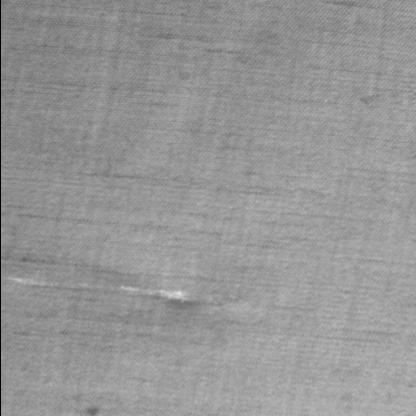thread error: (0, 273, 235, 309)
